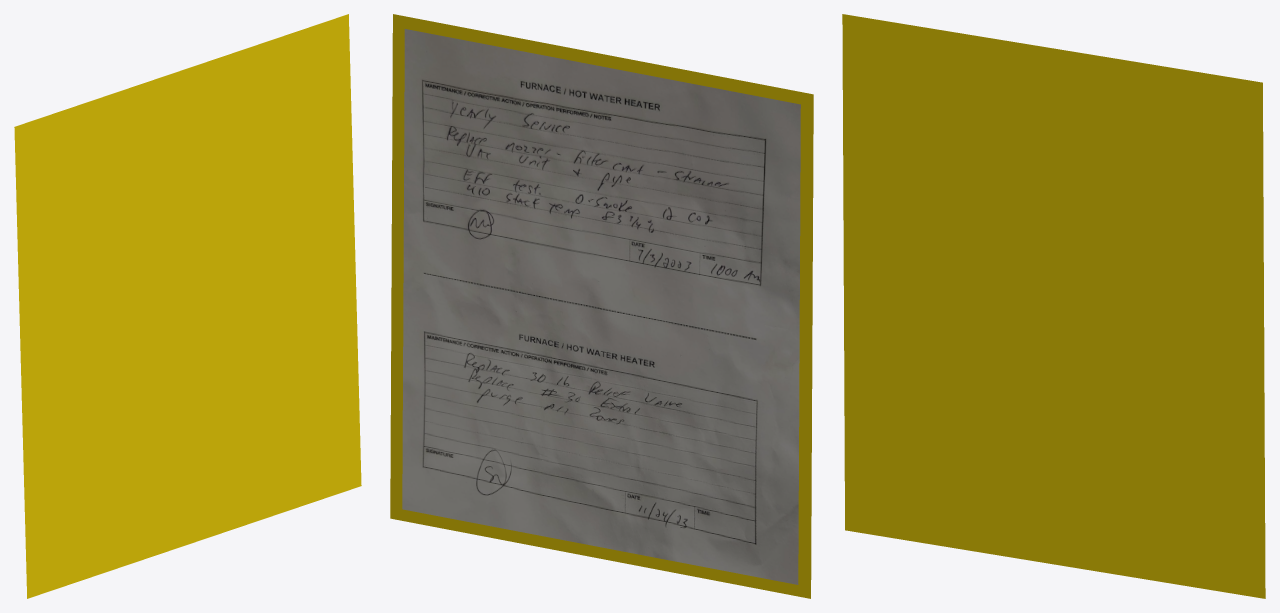
The picture shows the model from 3 angles, left to right: view 1: azimuth 30°, elevation 25°; view 2: azimuth 150°, elevation 25°; view 3: azimuth 330°, elevation 25°; orthographic projection. The views are drawn at different scales.
Visible parts, largest first — view 1: Past Inspection Log (1); view 2: Image, Past Inspection Log (1); view 3: Past Inspection Log (1).
Part boxes in pixels (x1,y1,x2,y2): Past Inspection Log (1): [14, 14, 361, 598]; Image: [402, 29, 800, 584]; Past Inspection Log (1): [390, 14, 813, 598]; Past Inspection Log (1): [842, 14, 1265, 598].
Bounding box in the file's own units: 0.4304 × 0.5309 × 0.0641.
2 materials, 1 textured.
